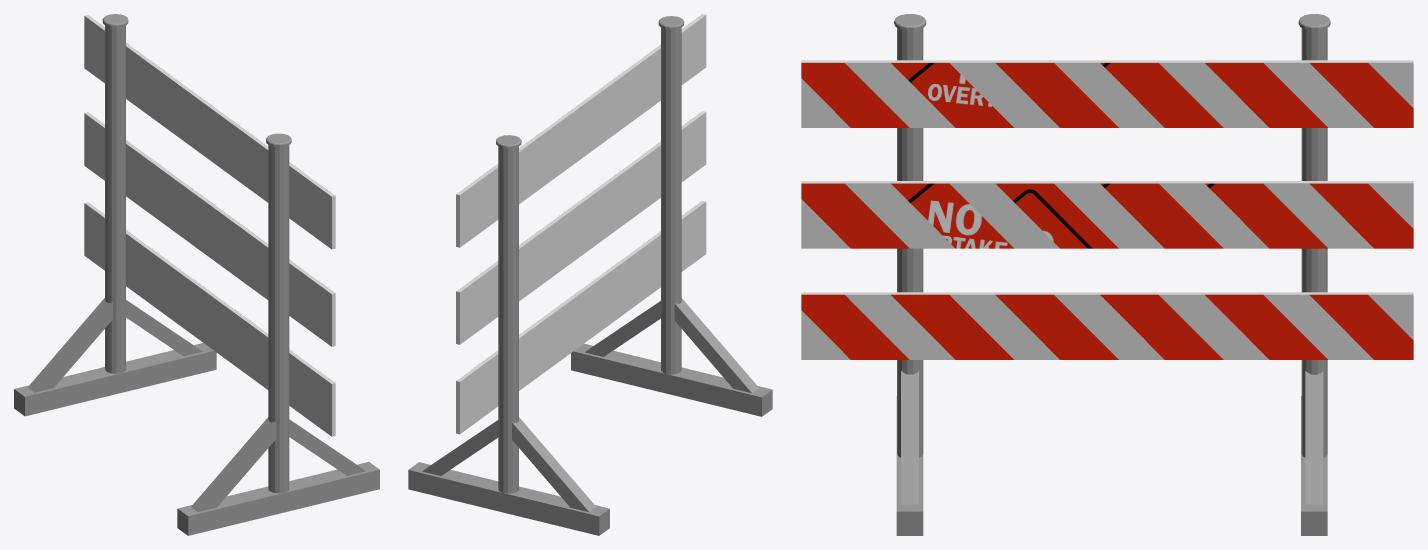
The model's file is block 1.fbx.
3 renders of one model, left to right at view 1: azimuth 30°, elevation 25°; view 2: azimuth 150°, elevation 25°; view 3: azimuth 270°, elevation 25°, orthographic. The views are drawn at different scales.
Parts seen in each view (by area): view 1: Cube.045; view 2: Cube.045; view 3: Cube.045.
Boxes of the visible parts, <box> form: Cube.045: <box>14,14,379,535</box>; Cube.045: <box>408,14,772,535</box>; Cube.045: <box>801,14,1413,535</box>.
Size of the model in its own units: 44.53 by 82.15 by 99.54.
3 materials, 1 textured.
